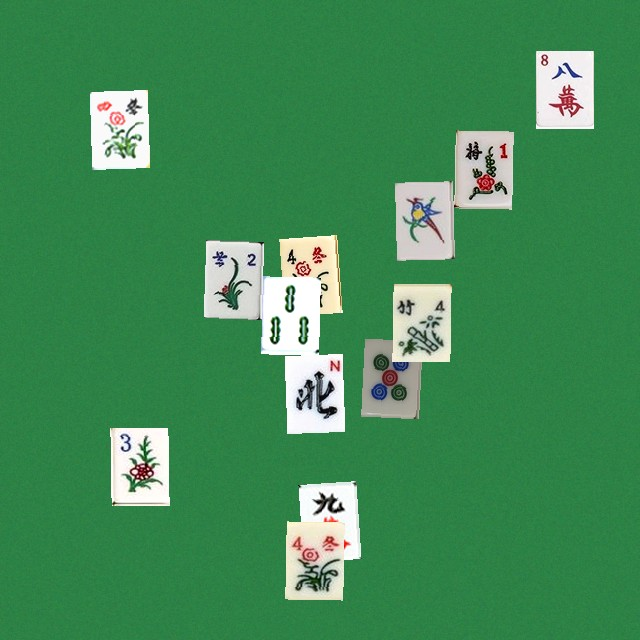tile: (203, 240, 261, 318), (395, 181, 453, 259), (454, 130, 512, 208), (361, 338, 419, 416), (535, 50, 593, 128), (110, 427, 168, 505), (279, 235, 337, 313), (298, 481, 356, 559), (261, 276, 319, 354), (89, 90, 147, 168), (392, 283, 450, 361), (285, 521, 343, 599), (284, 353, 342, 431)
